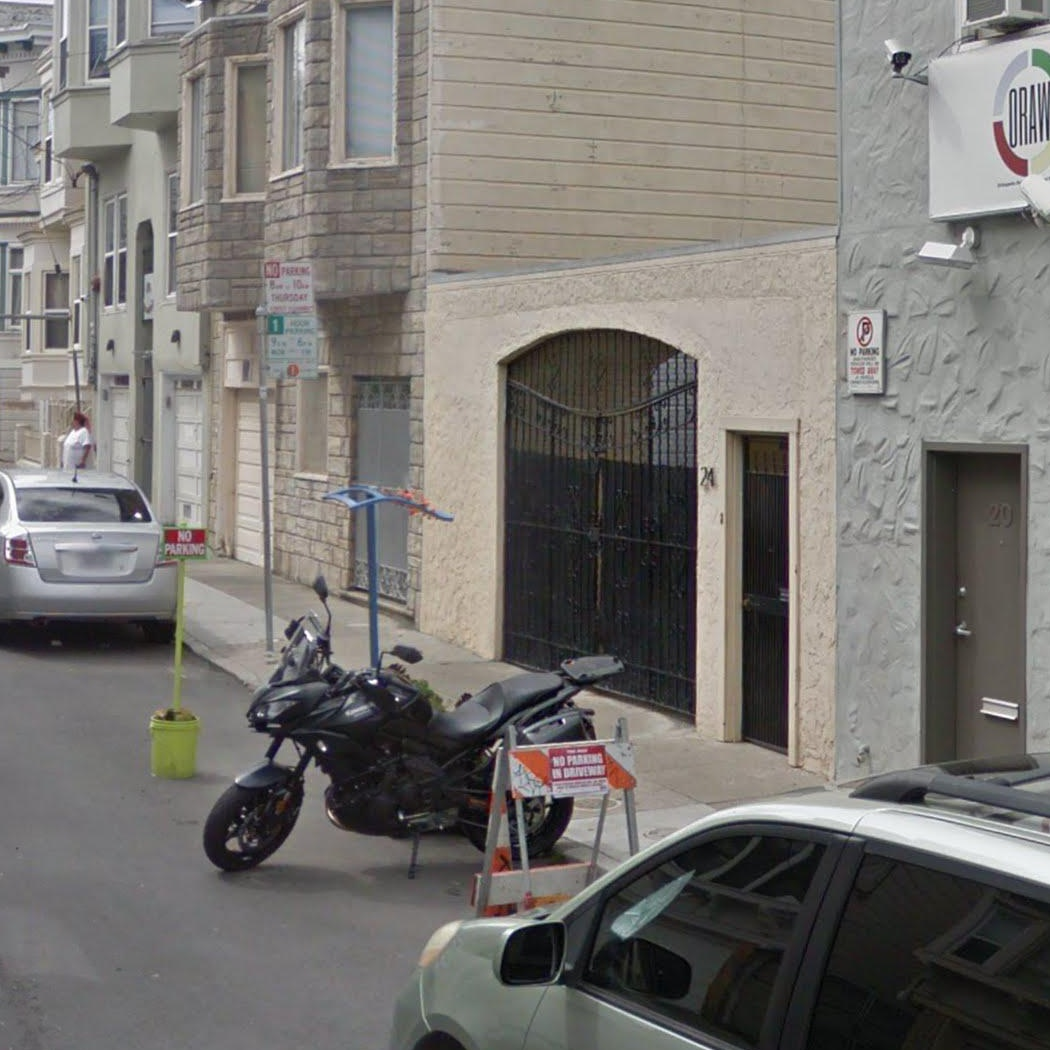1 Hour Parking: (263, 313, 320, 379)
No Parking: (262, 259, 316, 315)
